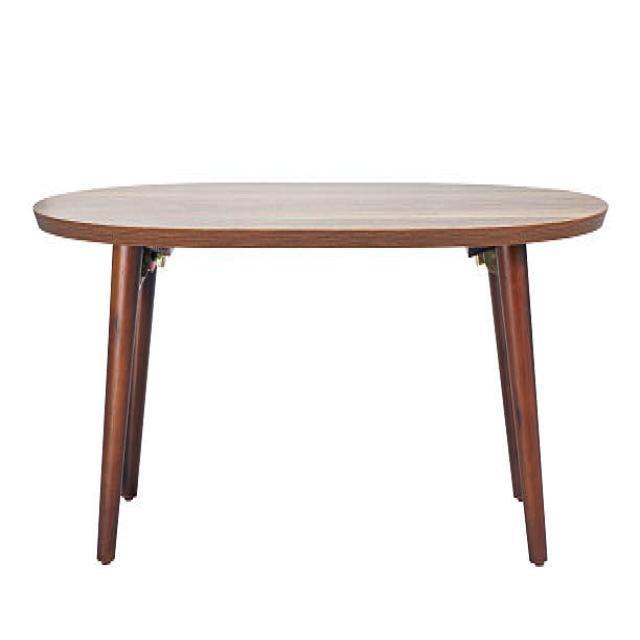table: (32, 179, 608, 567)
